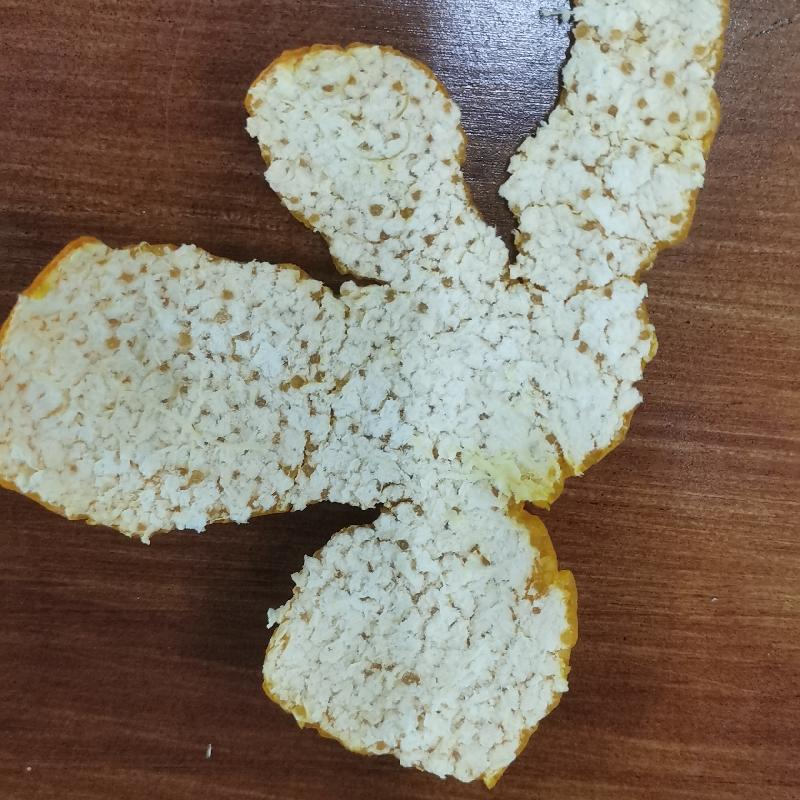orange: (5, 1, 731, 783)
